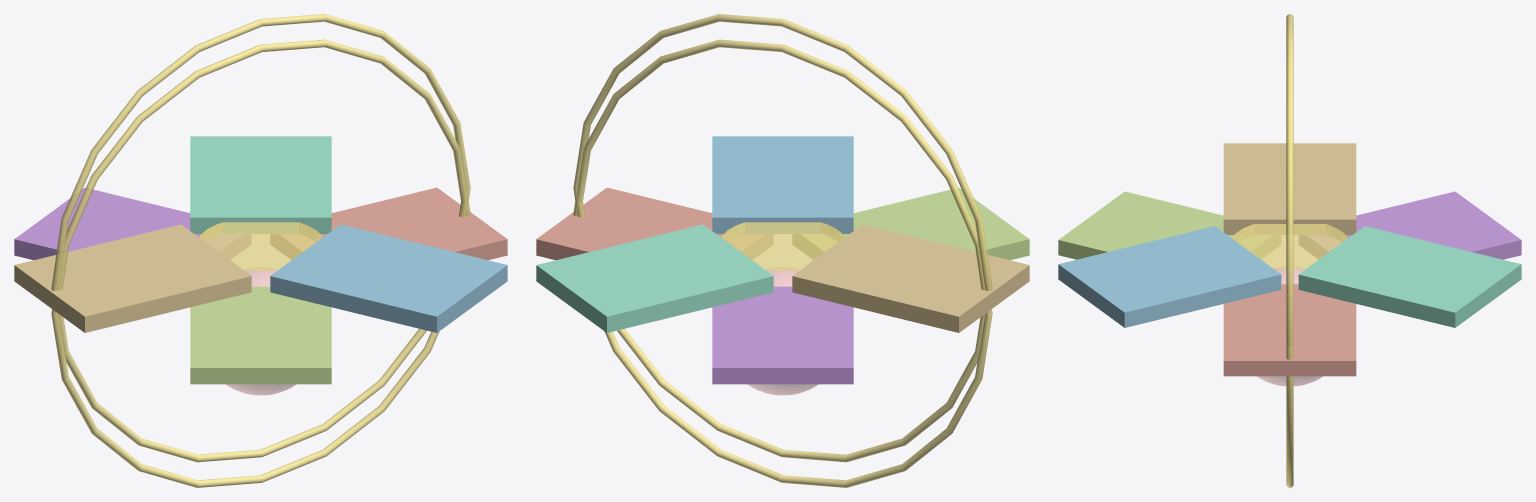
File: tectonic-plates.glb
3 renders of one model, left to right at view 1: azimuth 30°, elevation 25°; view 2: azimuth 150°, elevation 25°; view 3: azimuth 270°, elevation 25°, orthographic. The views are drawn at different scales.
Visible parts, largest first — view 1: plate_2, plate_4, plate_6, plate_3, plate_boundary_1, plate_boundary_2, plate_boundary_3, plate_boundary_4, plate_1, plate_5, boundary_ridge, mantle_convection; view 2: plate_6, plate_4, plate_2, plate_5, plate_boundary_1, plate_boundary_2, plate_boundary_3, plate_boundary_4, plate_1, plate_3, boundary_ridge, mantle_convection; view 3: plate_2, plate_6, plate_4, plate_1, plate_3, plate_5, boundary_ridge, plate_boundary_2, plate_boundary_4, plate_boundary_1, plate_boundary_3, mantle_convection.
Part boxes in pixels (bbox=[...]): plate_2: bbox=[270, 224, 507, 332]; plate_4: bbox=[14, 224, 251, 332]; plate_6: bbox=[190, 136, 331, 233]; plate_3: bbox=[190, 286, 331, 384]; plate_boundary_1: bbox=[51, 39, 470, 487]; plate_boundary_2: bbox=[51, 14, 470, 462]; plate_boundary_3: bbox=[51, 40, 470, 487]; plate_boundary_4: bbox=[51, 14, 470, 461]; plate_1: bbox=[271, 187, 507, 260]; plate_5: bbox=[14, 187, 250, 260]; boundary_ridge: bbox=[199, 222, 322, 270]; mantle_convection: bbox=[226, 270, 295, 395]; plate_6: bbox=[536, 224, 773, 332]; plate_4: bbox=[792, 224, 1029, 332]; plate_2: bbox=[712, 136, 853, 233]; plate_5: bbox=[712, 286, 853, 384]; plate_boundary_1: bbox=[573, 39, 992, 487]; plate_boundary_2: bbox=[573, 14, 992, 462]; plate_boundary_3: bbox=[573, 40, 992, 487]; plate_boundary_4: bbox=[573, 14, 992, 461]; plate_1: bbox=[536, 187, 772, 260]; plate_3: bbox=[793, 187, 1029, 260]; boundary_ridge: bbox=[721, 222, 844, 270]; mantle_convection: bbox=[748, 270, 817, 395]; plate_2: bbox=[1058, 226, 1281, 327]; plate_6: bbox=[1298, 226, 1521, 327]; plate_4: bbox=[1223, 143, 1356, 234]; plate_1: bbox=[1223, 284, 1356, 376]; plate_3: bbox=[1058, 191, 1280, 259]; plate_5: bbox=[1299, 191, 1521, 259]; boundary_ridge: bbox=[1232, 224, 1347, 269]; plate_boundary_2: bbox=[1286, 14, 1293, 345]; plate_boundary_4: bbox=[1286, 14, 1293, 345]; plate_boundary_1: bbox=[1286, 345, 1293, 487]; plate_boundary_3: bbox=[1286, 345, 1293, 487]; mantle_convection: bbox=[1257, 269, 1322, 386].
Size of the model in its own units: 1.13 by 1.19 by 1.14.
